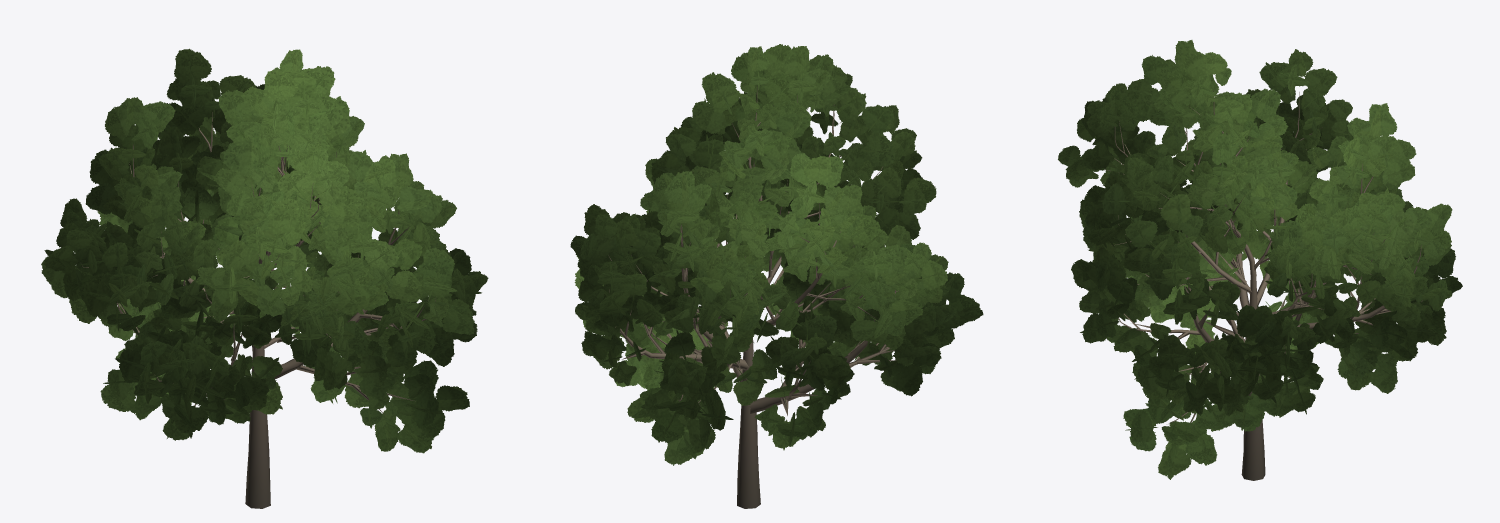
Rendered from encina-alto.glb.
The picture shows the model from 3 angles, left to right: view 1: azimuth 30°, elevation 25°; view 2: azimuth 150°, elevation 25°; view 3: azimuth 270°, elevation 25°; orthographic projection. The views are drawn at different scales.
Visible parts, largest first — view 1: encina; view 2: encina; view 3: encina.
Boxes of the visible parts, x1,y1,x2,y2 form: encina: [41, 48, 488, 508]; encina: [570, 44, 983, 508]; encina: [1058, 40, 1462, 480].
Bounding box in the file's own units: 7.81 × 8 × 7.11.
2 materials, 1 textured.
